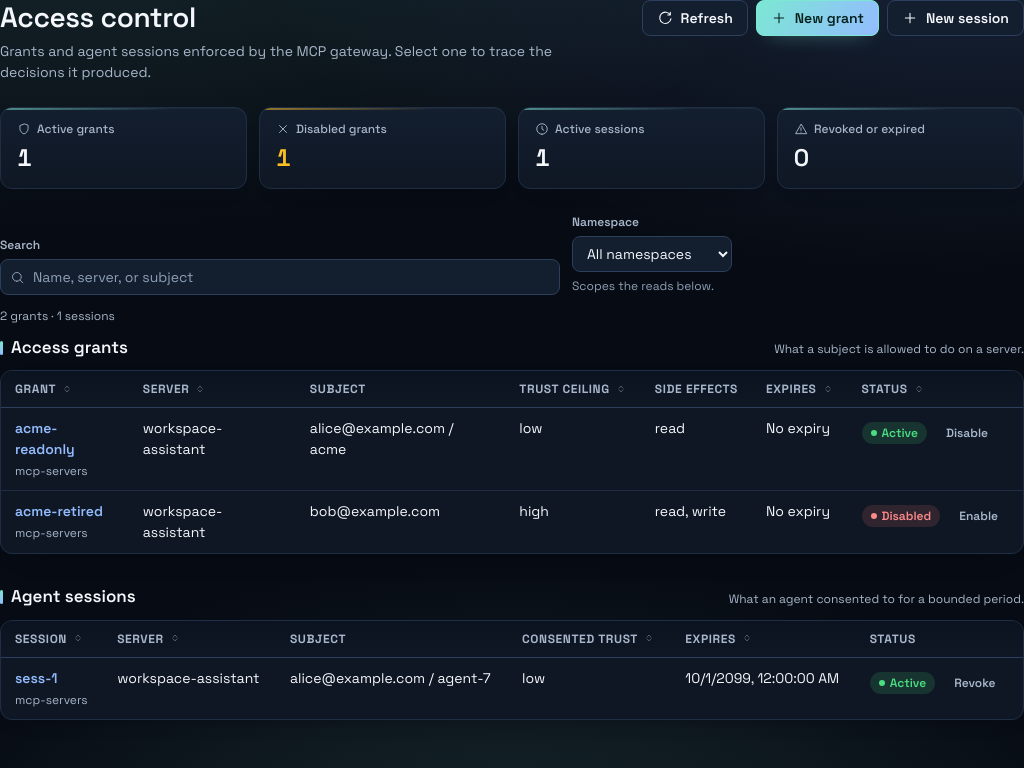
Scenario: AccessWorkspace drill-down › opens a session detail labelled as an agent session
Check: the table with test id "sessions-table" is shown, box top-left (1, 620), bottom-right (1023, 718)
Click the button with test id "session-drilldown" at (36, 678), box top-left (15, 668), bottom-right (58, 688)
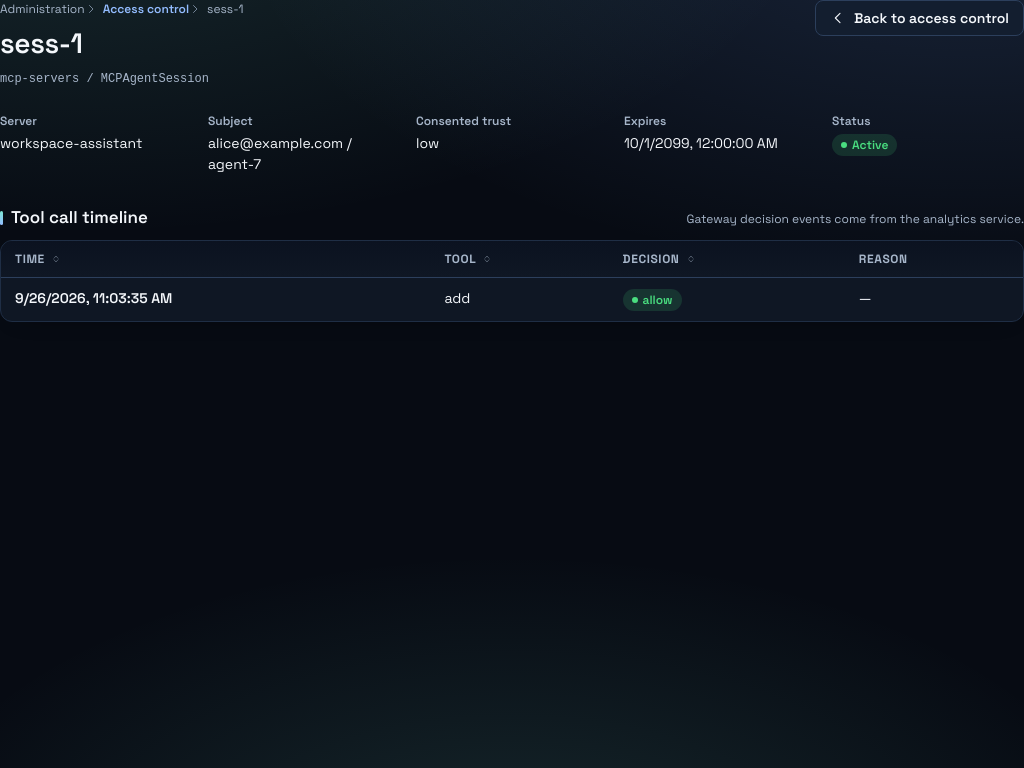
Check: the text with test id "access-detail-kicker" reads "mcp-servers / MCPAgentSession", box top-left (0, 72), bottom-right (209, 86)
